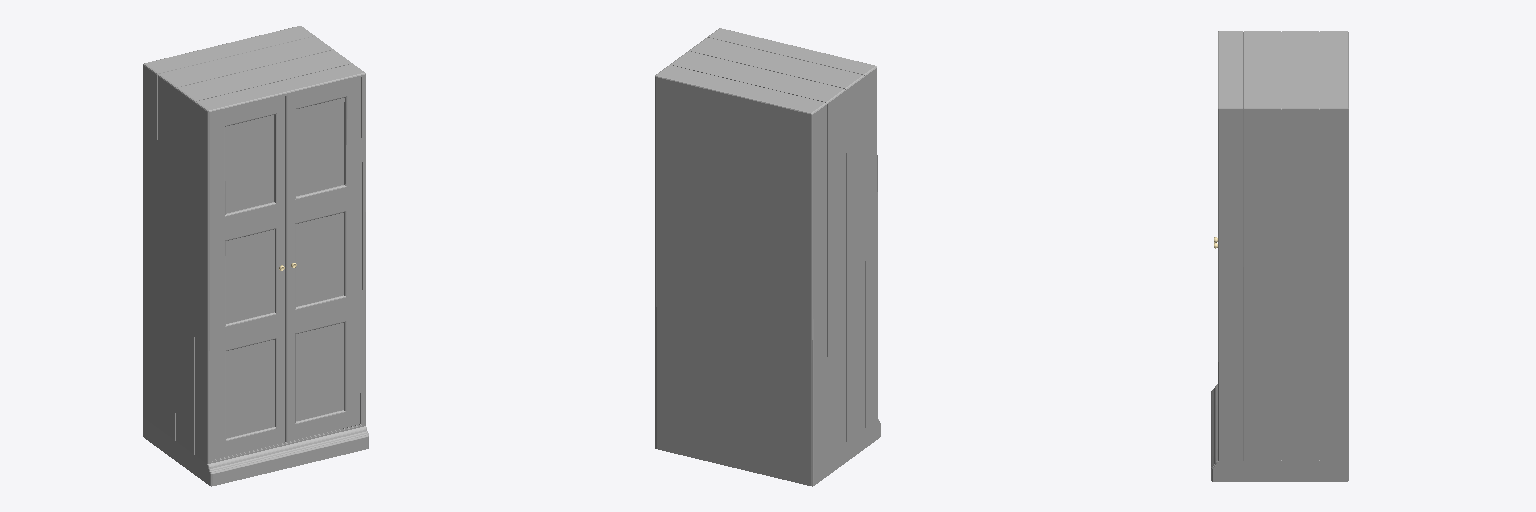
The model's file is Cupboard.obj.
3 renders of one model, left to right at view 1: azimuth 30°, elevation 25°; view 2: azimuth 150°, elevation 25°; view 3: azimuth 270°, elevation 25°, orthographic.
Parts seen in each view (by area): view 1: Cupboard_Cube.001; view 2: Cupboard_Cube.001; view 3: Cupboard_Cube.001.
Boxes of the visible parts, x1=… form: Cupboard_Cube.001: x1=143, y1=26, x2=368, y2=486; Cupboard_Cube.001: x1=655, y1=28, x2=880, y2=486; Cupboard_Cube.001: x1=1211, y1=31, x2=1348, y2=481.
Size of the model in its own units: 0.9986 by 2.24 by 0.7496.